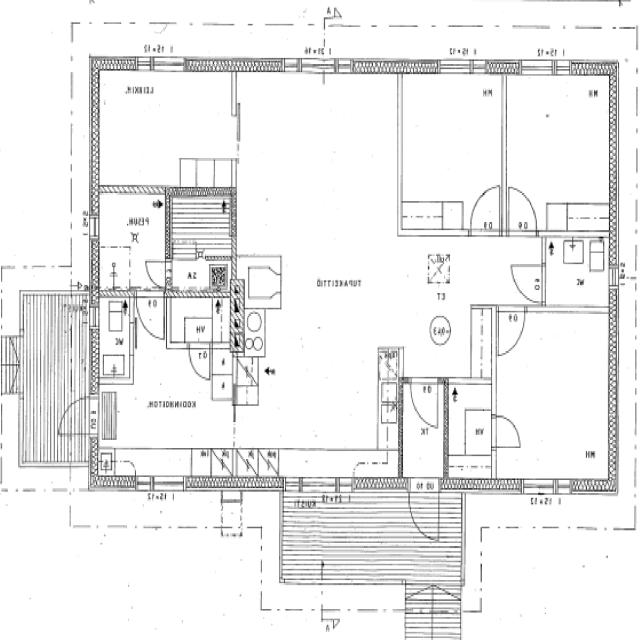door: (409, 476, 440, 536), (64, 398, 102, 436), (508, 189, 538, 236), (471, 188, 500, 236), (512, 262, 546, 302), (498, 306, 526, 354), (138, 290, 164, 336), (411, 379, 436, 420), (491, 417, 518, 448), (190, 343, 210, 378), (148, 262, 171, 288)
